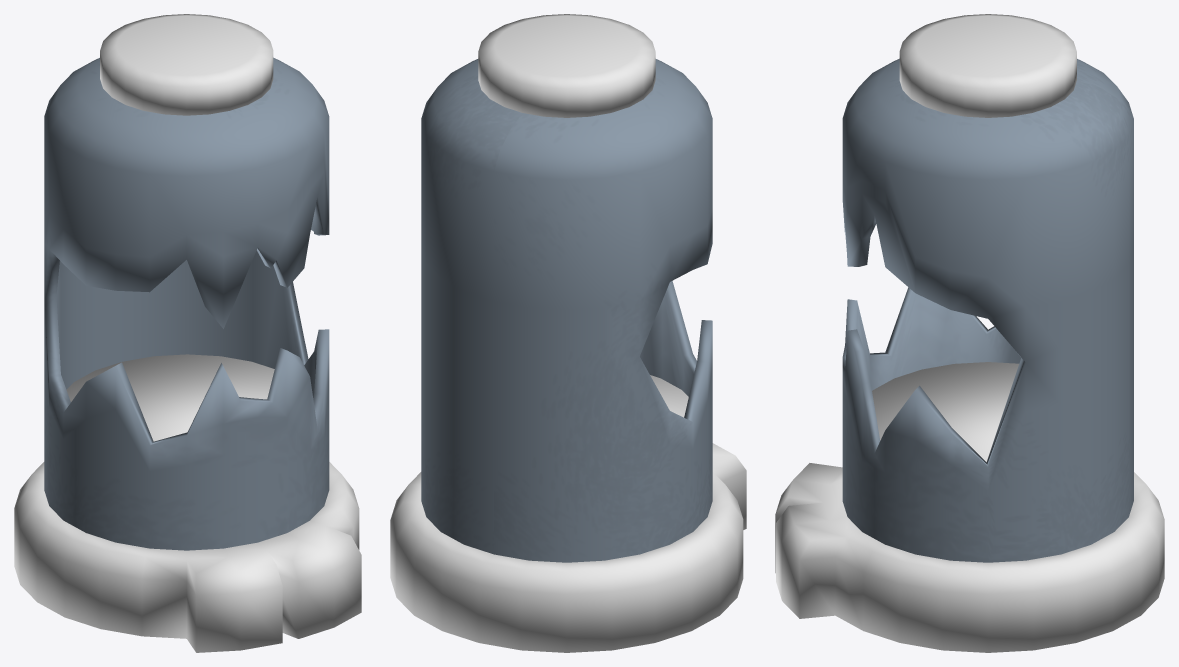
File: acid tank broken.fbx
3 views of the same model, side by side, from view 1: azimuth 30°, elevation 25°; view 2: azimuth 150°, elevation 25°; view 3: azimuth 270°, elevation 25° (orthographic). The views are drawn at different scales.
Visible parts, largest first — view 1: Acid Tank; view 2: Acid Tank; view 3: Acid Tank.
Part boxes in pixels (<box>): Acid Tank: <box>14,14,361,652</box>; Acid Tank: <box>390,14,746,652</box>; Acid Tank: <box>775,14,1164,652</box>.
Size of the model in its own units: 7.27 by 12.09 by 8.02.
